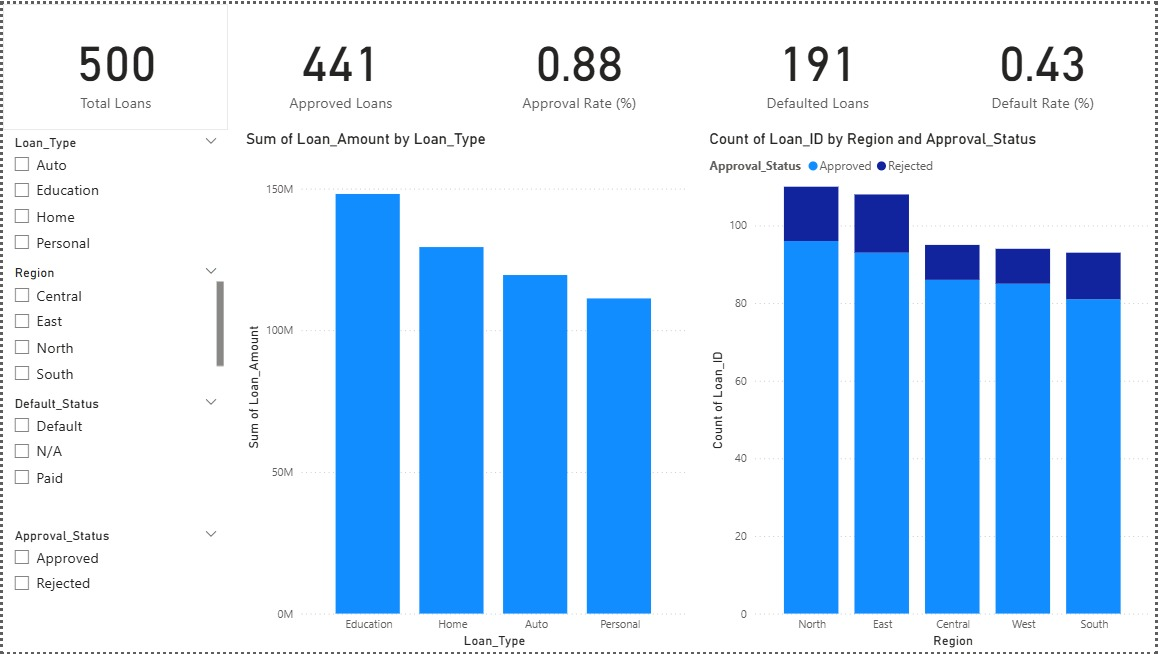

What the dashboard file says about the page in this screenshot:
{"tool":"powerbi","page":{"name":"Page 1","canvas":[1280,720],"ordinal":0},"visuals":[{"type":"card","fields":{"Values":["Loan Metrics.Total Loans"]},"box":[0,0,250,140],"z":0},{"type":"card","fields":{"Values":["Loan Metrics.Approved Loans"]},"box":[250,0,250,140],"z":1000},{"type":"card","fields":{"Values":["Loan Metrics.Approval Rate (%)"]},"box":[515,0,250,140],"z":2000},{"type":"card","fields":{"Values":["Risk Metrics.Defaulted Loans"]},"box":[780,0,250,140],"z":3000},{"type":"card","fields":{"Values":["Risk Metrics.Default Rate (%)"]},"box":[1030,0,250,140],"z":4000},{"type":"clusteredColumnChart","fields":{"Category":["Bank_Loan_Performance.Loan_Type"],"Y":["Sum(Bank_Loan_Performance.Loan_Amount)"]},"box":[265,140,500,580],"z":5000},{"type":"columnChart","fields":{"Category":["Bank_Loan_Performance.Region"],"Y":["CountNonNull(Bank_Loan_Performance.Loan_ID)"],"Series":["Bank_Loan_Performance.Approval_Status"]},"box":[780,140,500,580],"z":6000},{"type":"slicer","fields":{"Values":["Bank_Loan_Performance.Loan_Type"]},"box":[0,140,250,145],"z":7000},{"type":"slicer","fields":{"Values":["Bank_Loan_Performance.Region"]},"box":[0,285,250,145],"z":8000},{"type":"slicer","fields":{"Values":["Bank_Loan_Performance.Default_Status"]},"box":[0,430,250,146.7],"z":9000},{"type":"slicer","fields":{"Values":["Bank_Loan_Performance.Approval_Status"]},"box":[0,576.7,250,143.3],"z":10000}]}

Visuals, with their boxes in screenshot pixels (x1, y1, x2, y2), scaled from the page's 1280x720 canvas onto the 1159x654 screenshot:
card - Loan Metrics.Total Loans: (0,0,226,127)
card - Loan Metrics.Approved Loans: (226,0,453,127)
card - Loan Metrics.Approval Rate (%): (466,0,693,127)
card - Risk Metrics.Defaulted Loans: (706,0,933,127)
card - Risk Metrics.Default Rate (%): (933,0,1158,127)
clusteredColumnChart - Bank_Loan_Performance.Loan_Type x Sum(Bank_Loan_Performance.Loan_Amount): (240,127,693,653)
columnChart - Bank_Loan_Performance.Region x CountNonNull(Bank_Loan_Performance.Loan_ID): (706,127,1158,653)
slicer - Bank_Loan_Performance.Loan_Type: (0,127,226,259)
slicer - Bank_Loan_Performance.Region: (0,259,226,391)
slicer - Bank_Loan_Performance.Default_Status: (0,391,226,524)
slicer - Bank_Loan_Performance.Approval_Status: (0,524,226,653)
